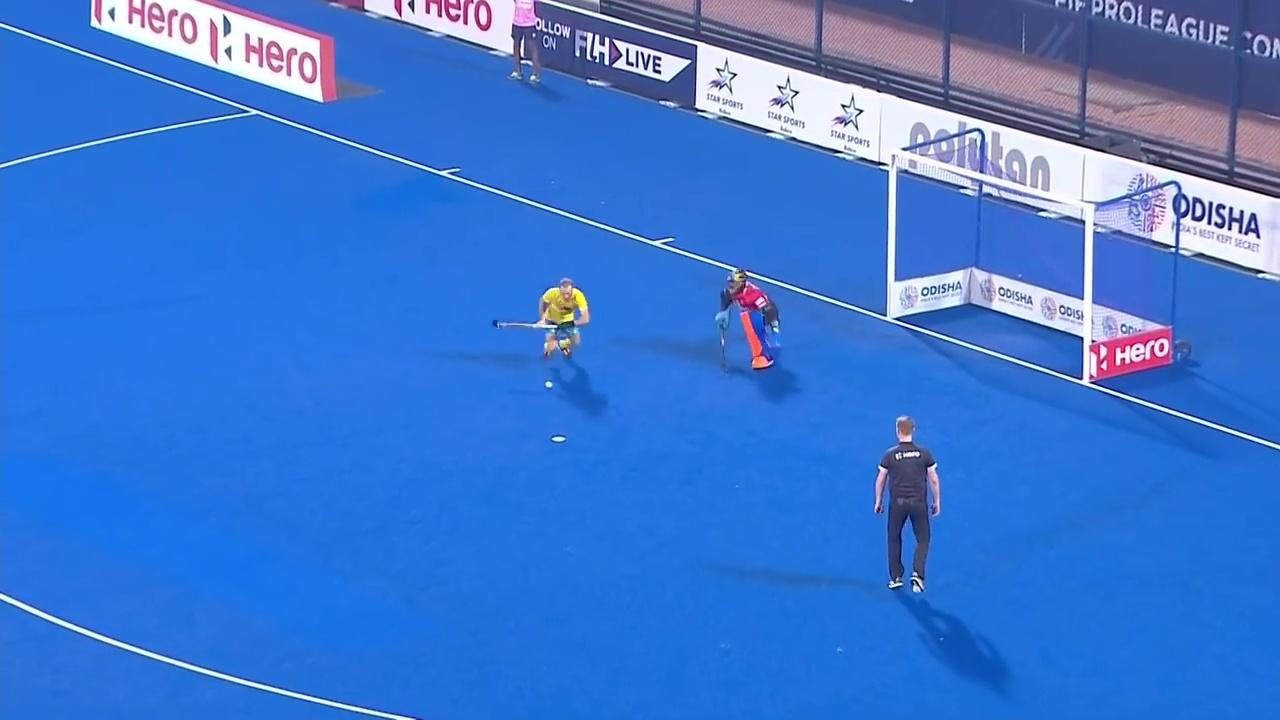ball: (542, 375, 558, 390)
